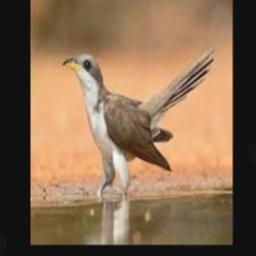Cuckoo: (62, 43, 214, 193)
